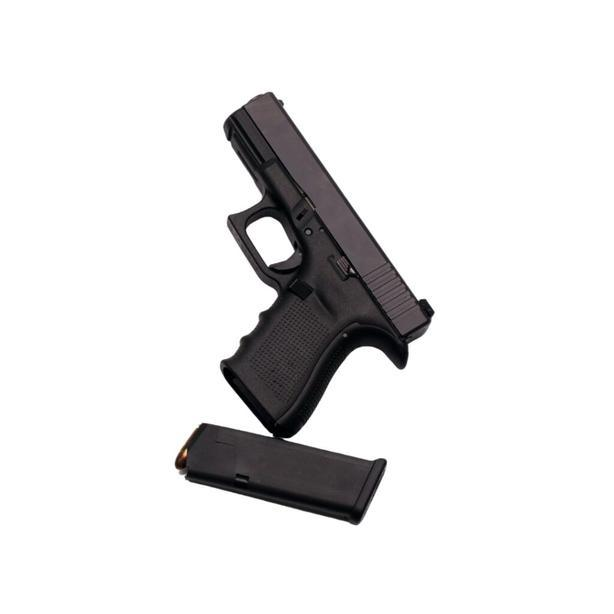Firearm: (159, 78, 445, 530)
